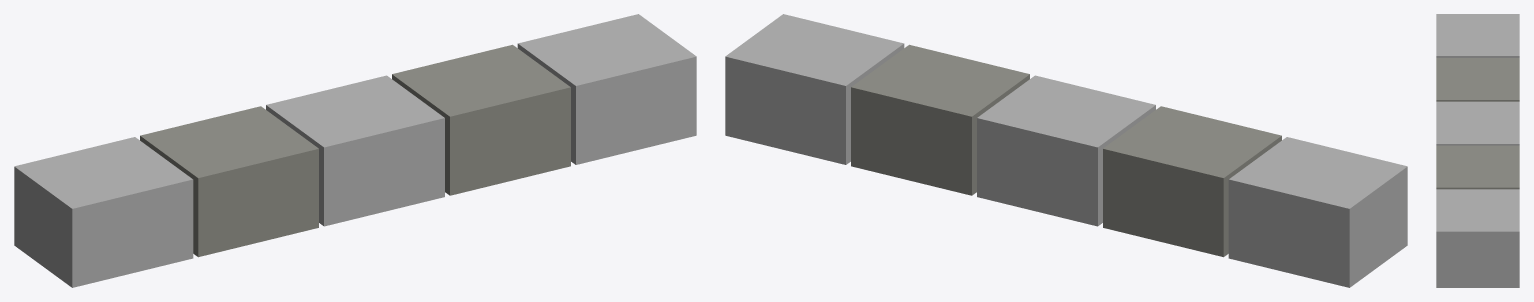
The model's file is SM_Palots_v2_Fila_LOD1.fbx.
3 views of the same model, side by side, from view 1: azimuth 30°, elevation 25°; view 2: azimuth 150°, elevation 25°; view 3: azimuth 270°, elevation 25° (orthographic). The views are drawn at different scales.
Parts seen in each view (by area): view 1: SM_viveres_nules_v22_LOD1; view 2: SM_viveres_nules_v22_LOD1; view 3: SM_viveres_nules_v22_LOD1.
Boxes of the visible parts, bbox=[...] form: SM_viveres_nules_v22_LOD1: bbox=[14, 14, 696, 287]; SM_viveres_nules_v22_LOD1: bbox=[725, 14, 1407, 287]; SM_viveres_nules_v22_LOD1: bbox=[1436, 14, 1519, 287].
Bounding box in the file's own units: 6.2 × 0.75 × 1.
